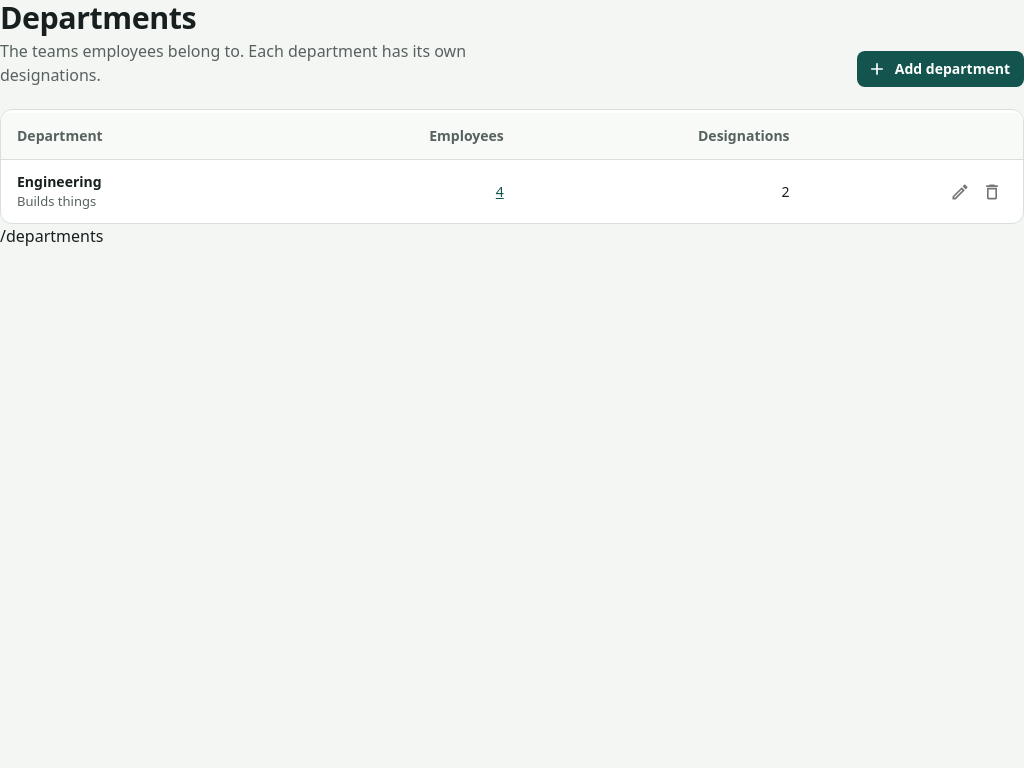
it: DepartmentsPage › shows why a department in use cannot be deleted
Step 1. Click the button named "Delete Engineering" → (992, 192), box [977, 177, 1007, 207]
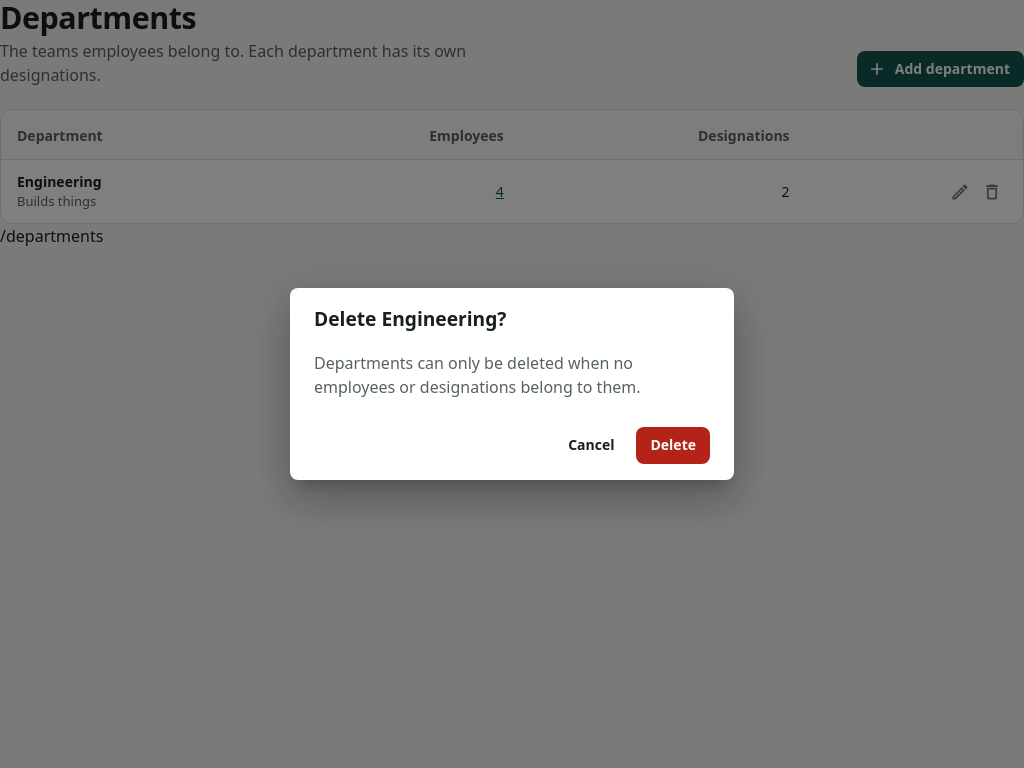
Step 2. Click the button "Delete" → (673, 445), box [636, 427, 710, 464]
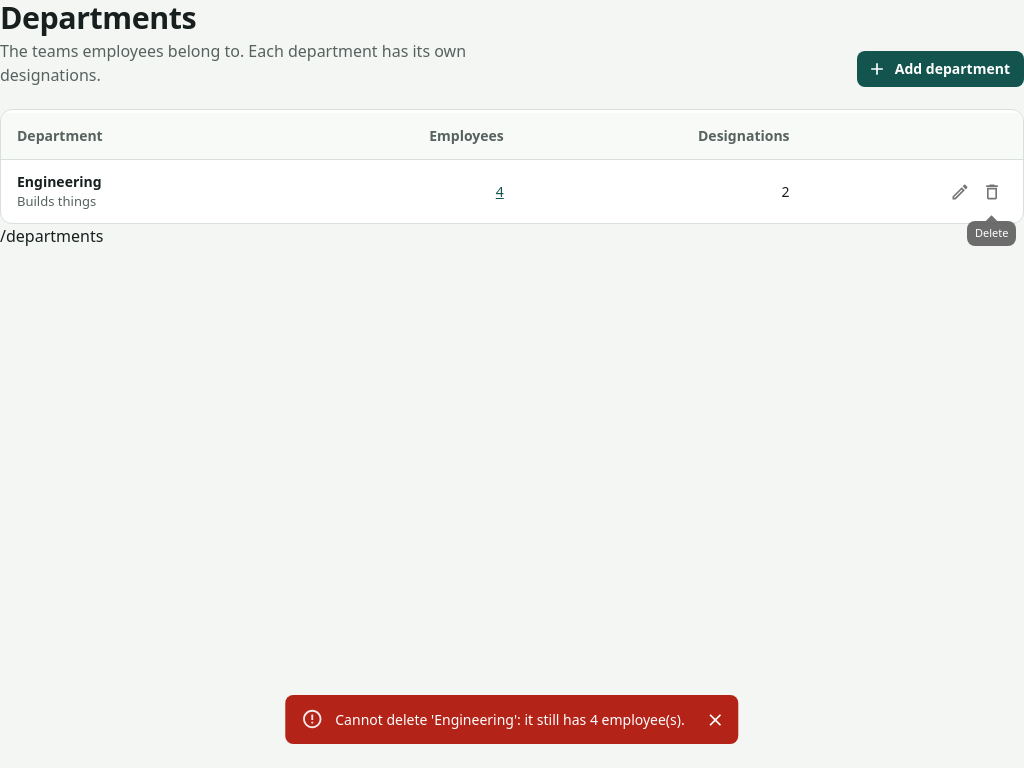
Now the text "Cannot delete 'Engineering': it still has 4 employee(s)." is shown, box [335, 710, 685, 729]
